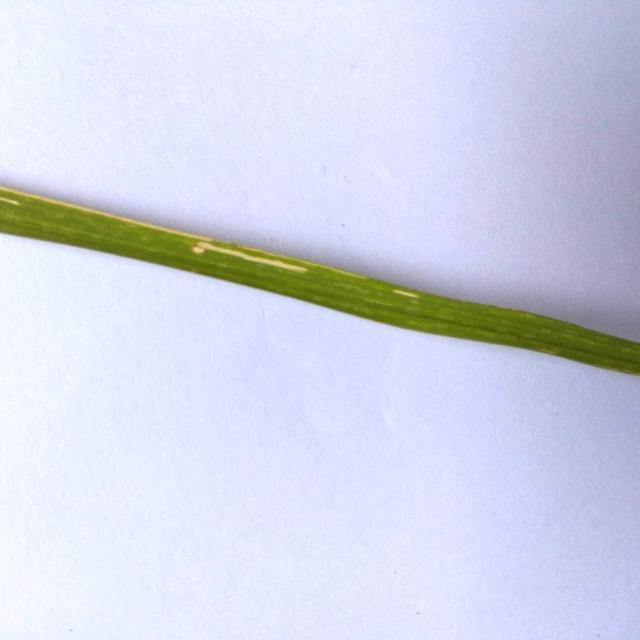Blast: (392, 288, 422, 304), (190, 240, 213, 258)
